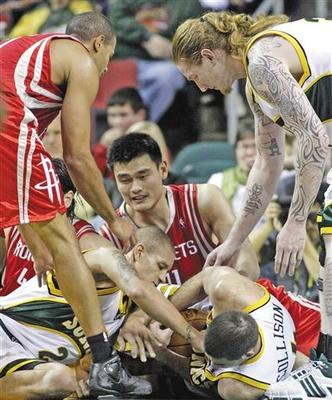fall: (170, 258, 332, 397)
